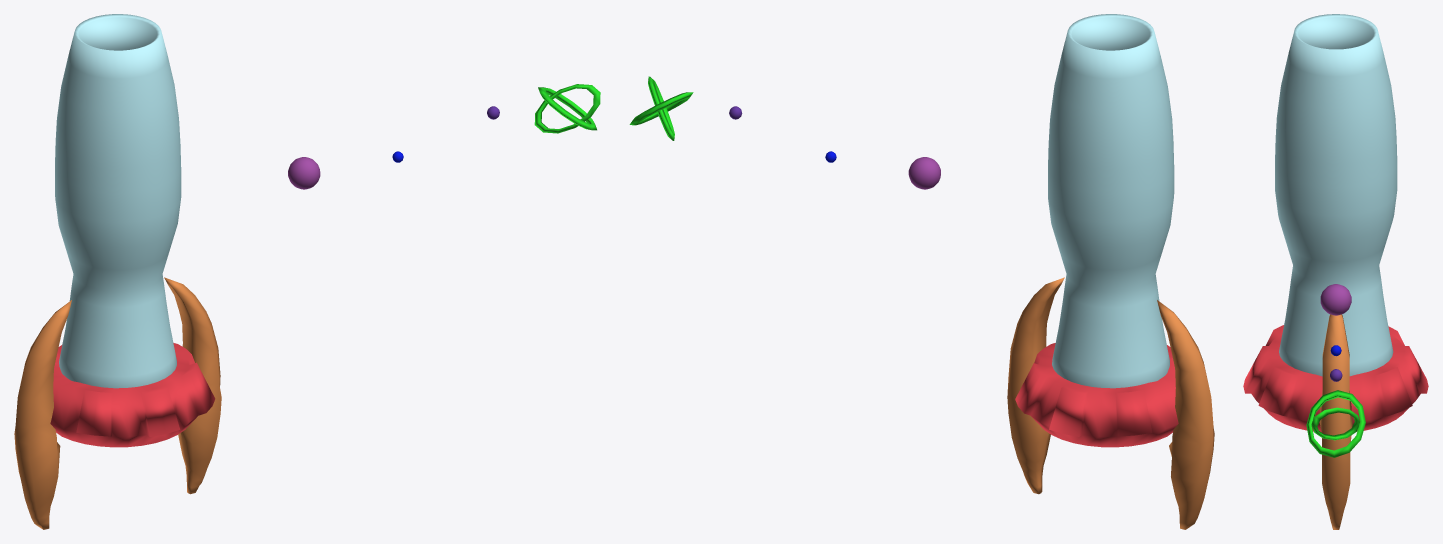
Rendered from FINAL_mediumMode_AlienBlender 2.fbx.
The picture shows the model from 3 angles, left to right: view 1: azimuth 30°, elevation 25°; view 2: azimuth 150°, elevation 25°; view 3: azimuth 270°, elevation 25°; orthographic projection. The views are drawn at different scales.
Visible parts, largest first — view 1: blenderGlass, stands, nutAndBase, atomPiece 4, atomPiece; view 2: blenderGlass, stands, nutAndBase, atomPiece 4, atomPiece; view 3: blenderGlass, nutAndBase, stands, atomPiece 4, atomPiece.
Part boxes in pixels (left/top/right/bottom): blenderGlass: left=55, top=14, right=181, bottom=388; stands: left=14, top=277, right=221, bottom=529; nutAndBase: left=50, top=343, right=215, bottom=447; atomPiece 4: left=534, top=84, right=600, bottom=133; atomPiece: left=288, top=157, right=320, bottom=189; blenderGlass: left=1048, top=14, right=1174, bottom=388; stands: left=1007, top=277, right=1214, bottom=529; nutAndBase: left=1015, top=343, right=1178, bottom=447; atomPiece 4: left=629, top=76, right=693, bottom=140; atomPiece: left=908, top=157, right=940, bottom=189; blenderGlass: left=1275, top=14, right=1397, bottom=376; nutAndBase: left=1243, top=325, right=1428, bottom=431; stands: left=1319, top=314, right=1352, bottom=529; atomPiece 4: left=1306, top=390, right=1365, bottom=457; atomPiece: left=1320, top=284, right=1351, bottom=315.
Size of the model in its own units: 459 by 362 by 131.
